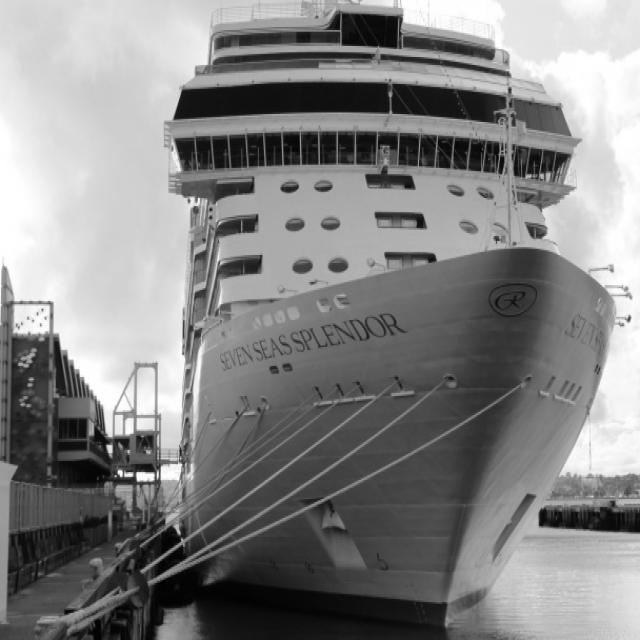cruises: (160, 1, 627, 640)
